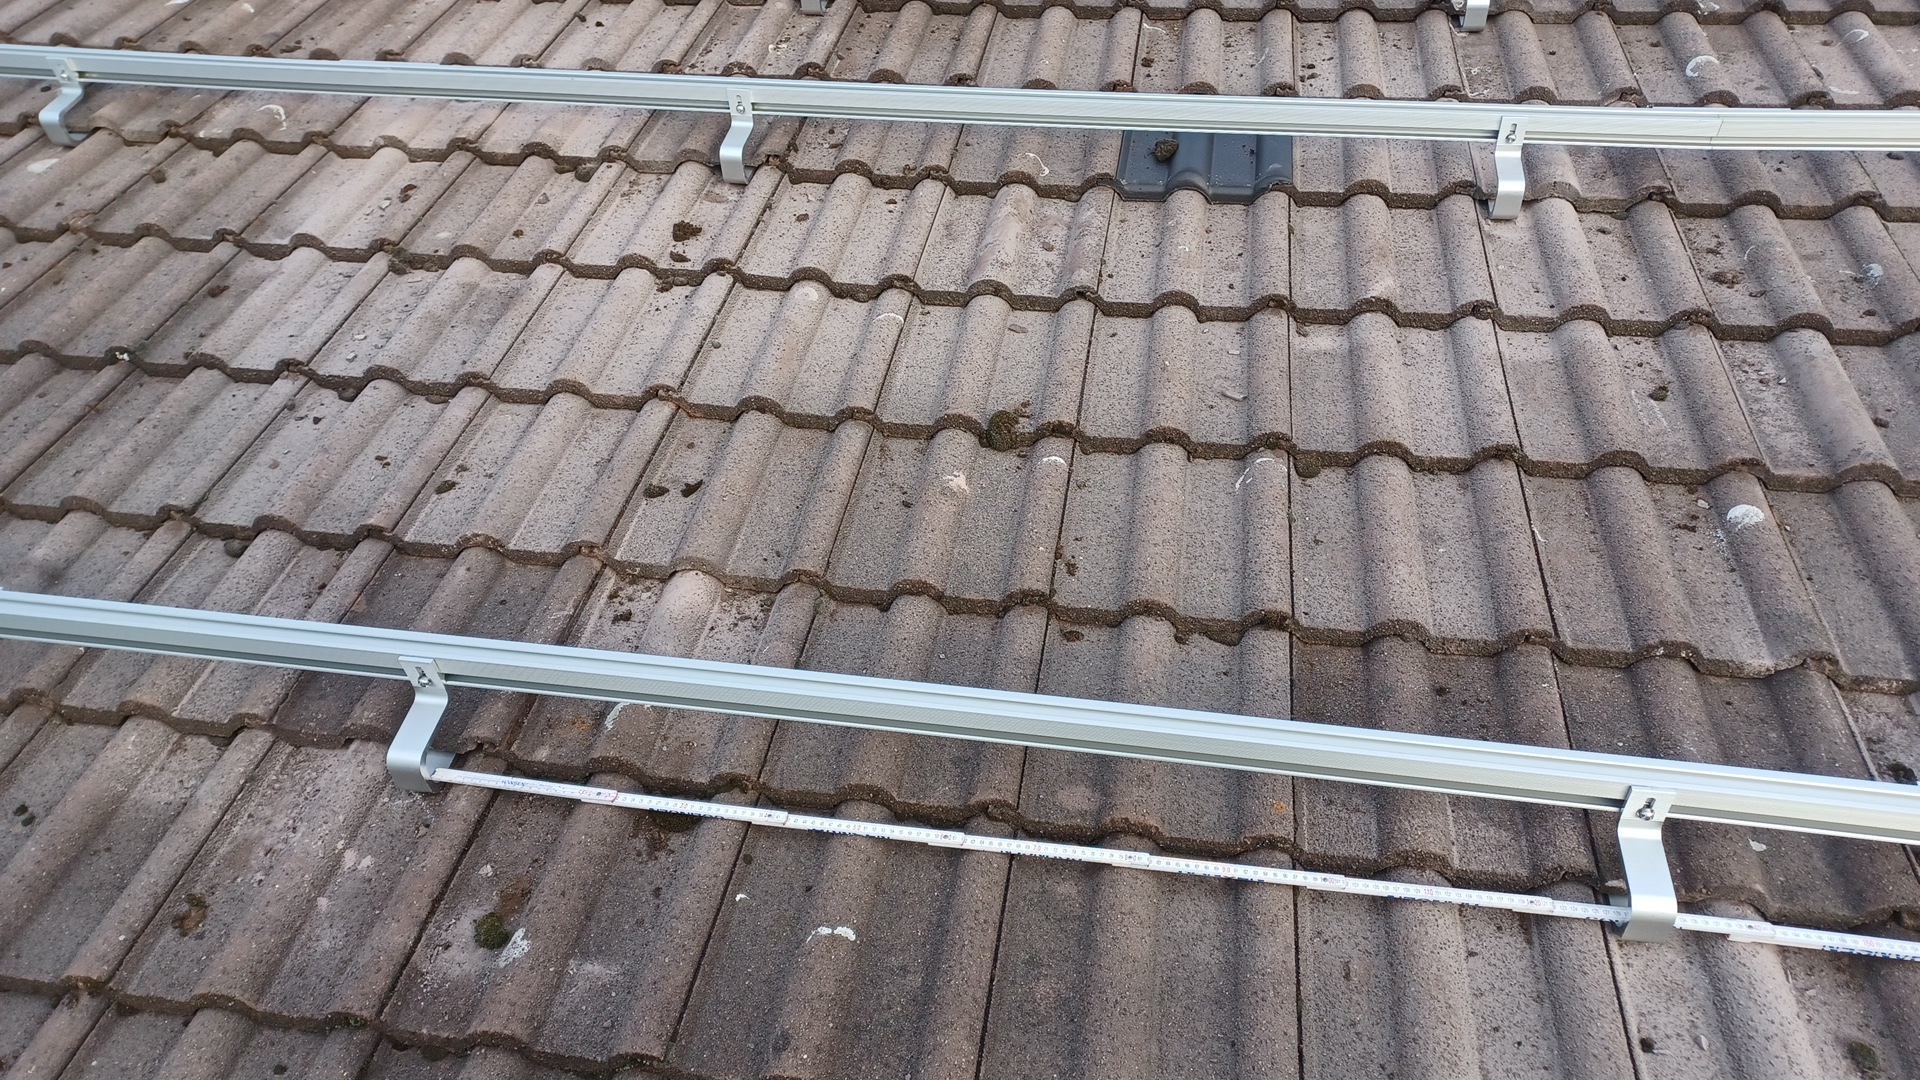hook: (1607, 785, 1677, 942), (386, 655, 458, 793), (38, 57, 96, 146), (1487, 116, 1526, 219), (719, 88, 756, 183), (1458, 1, 1491, 32)
